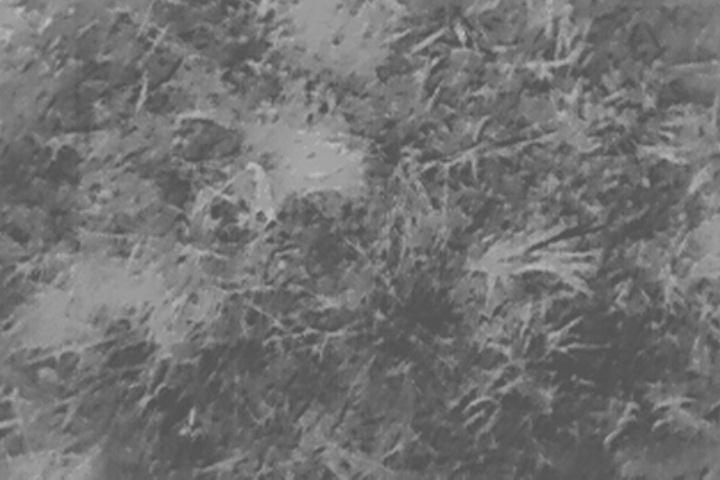landmine: (272, 122, 358, 185)
